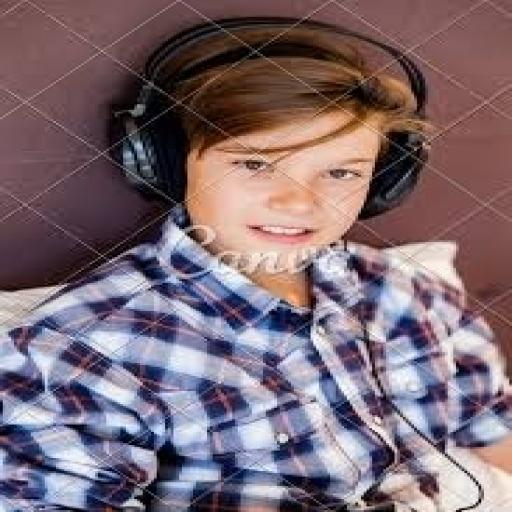listening_to_music: (0, 15, 509, 510)
